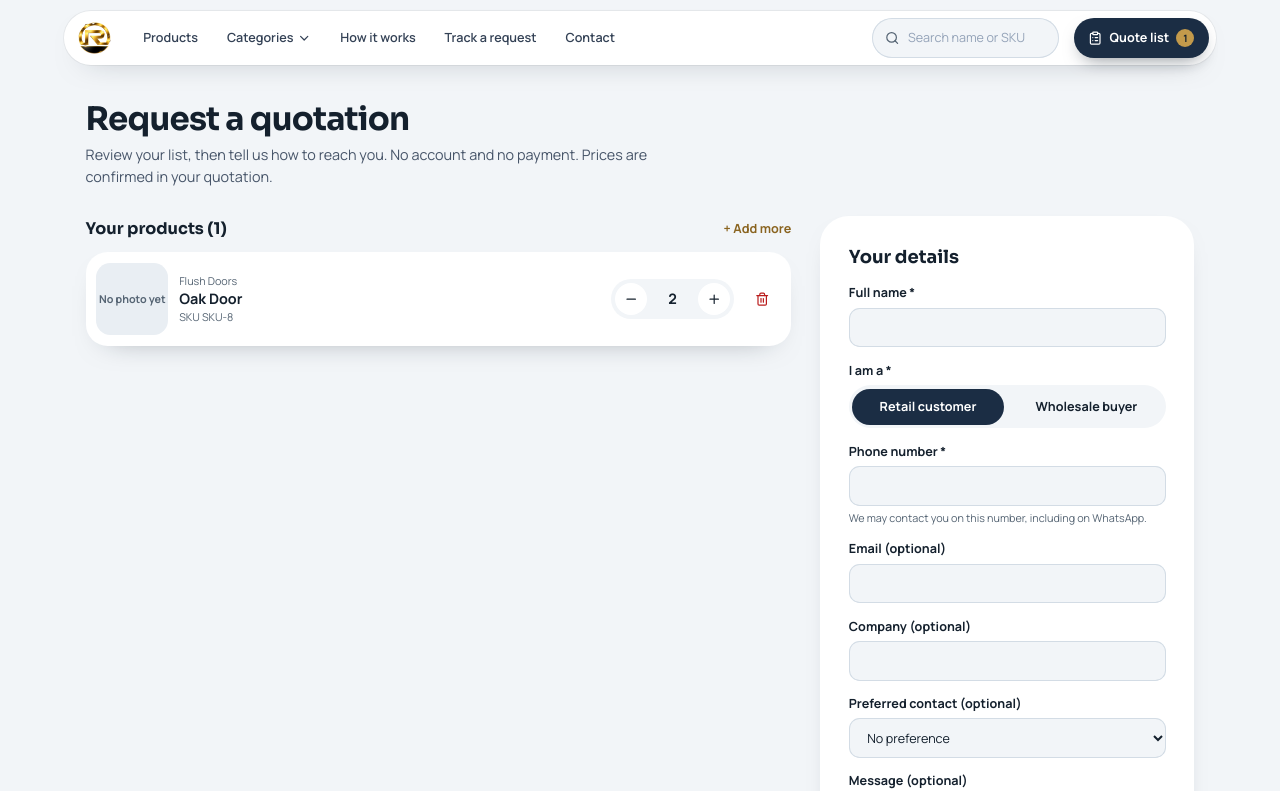
it: rate limiting gets a friendly message
Type "Chinedu Okafor" into the field labelled "Full name *" at coordinates (1007, 328), box x1=849 y1=308 x2=1166 y2=347
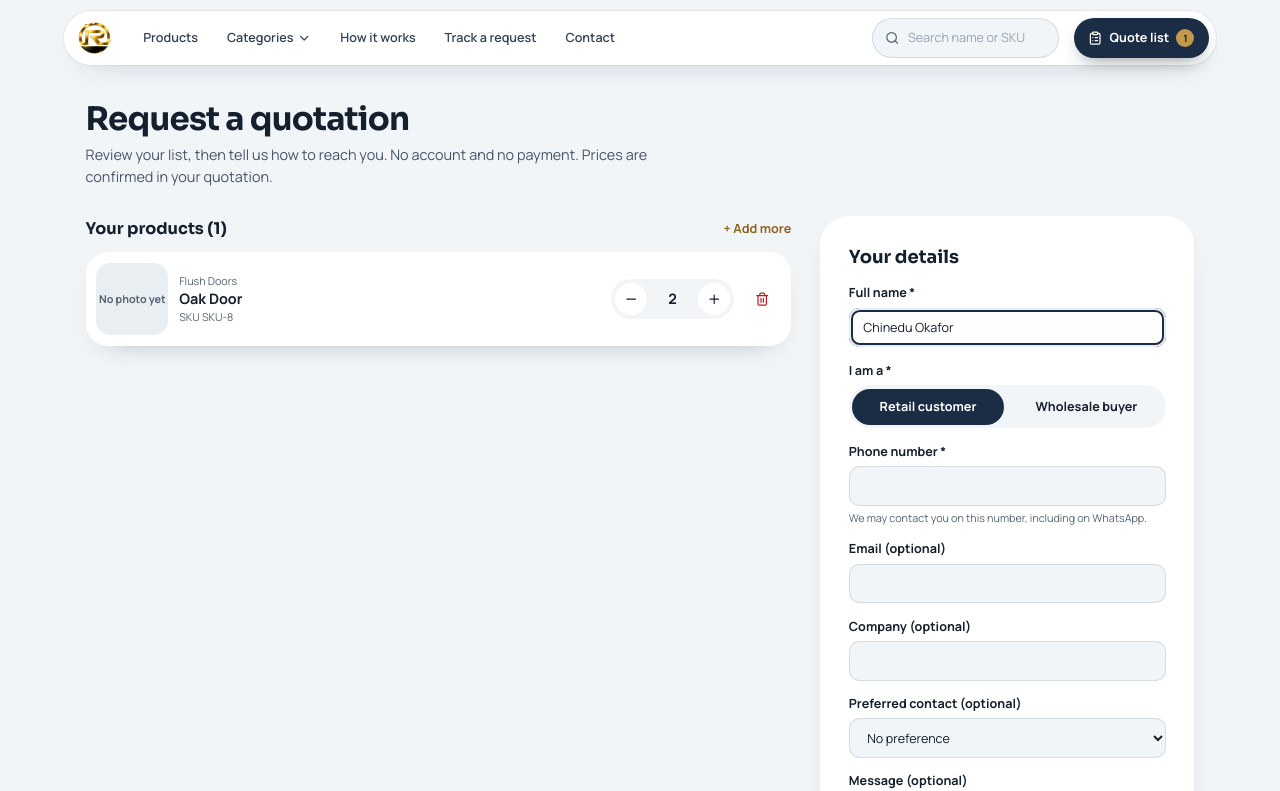
Type "08031234567" into the field labelled "Phone number *" at coordinates (1007, 486), box x1=849 y1=466 x2=1166 y2=506
(page scrolled)
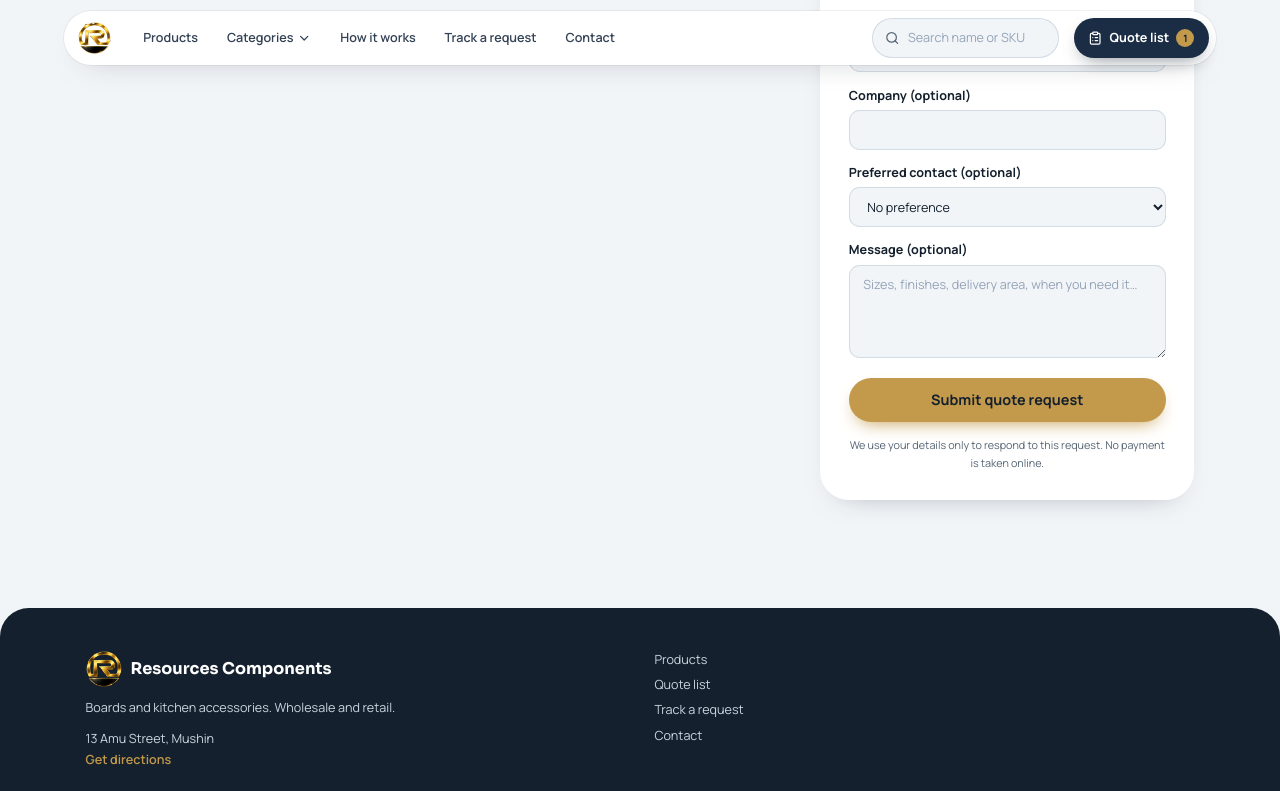
Click the button "Submit quote request" at coordinates (1007, 400), box x1=849 y1=378 x2=1166 y2=422
(page scrolled)
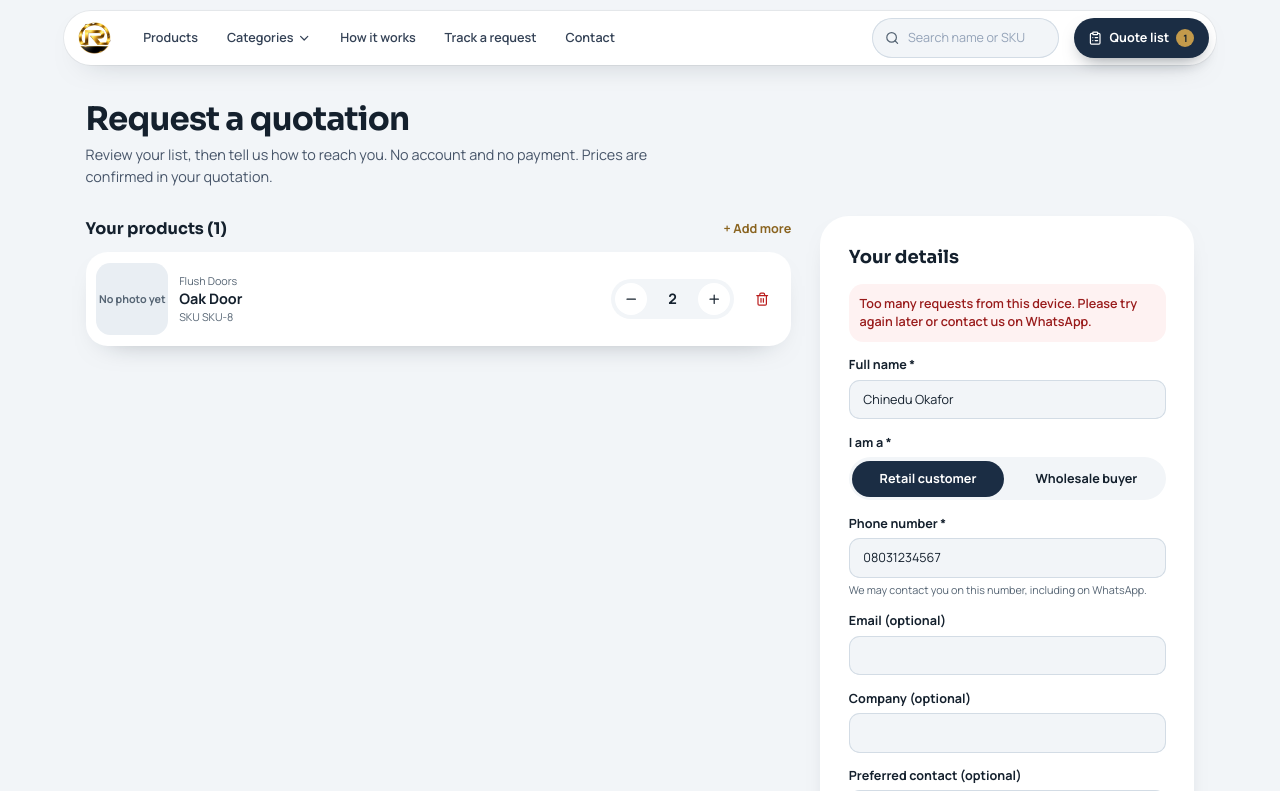
Result: the message shows "Too many requests" at x1=860 y1=295 x2=1137 y2=330
